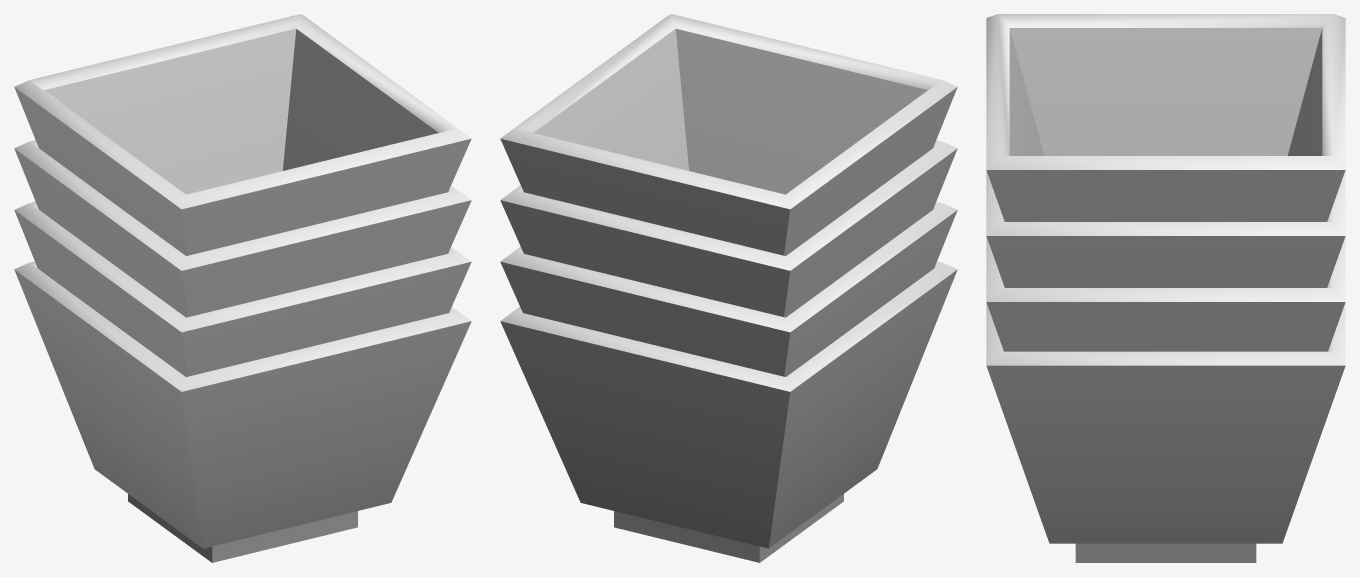
The model's file is CR_caf_Dish_002.FBX.
3 renders of one model, left to right at view 1: azimuth 30°, elevation 25°; view 2: azimuth 150°, elevation 25°; view 3: azimuth 270°, elevation 25°, orthographic. The views are drawn at different scales.
Visible parts, largest first — view 1: CR_caf_Dish_002; view 2: CR_caf_Dish_002; view 3: CR_caf_Dish_002.
Boxes of the visible parts, <box> form: CR_caf_Dish_002: <box>14,14,471,562</box>; CR_caf_Dish_002: <box>500,14,957,562</box>; CR_caf_Dish_002: <box>986,14,1345,562</box>.
Size of the model in its own units: 8.59 by 11.6 by 8.59.
